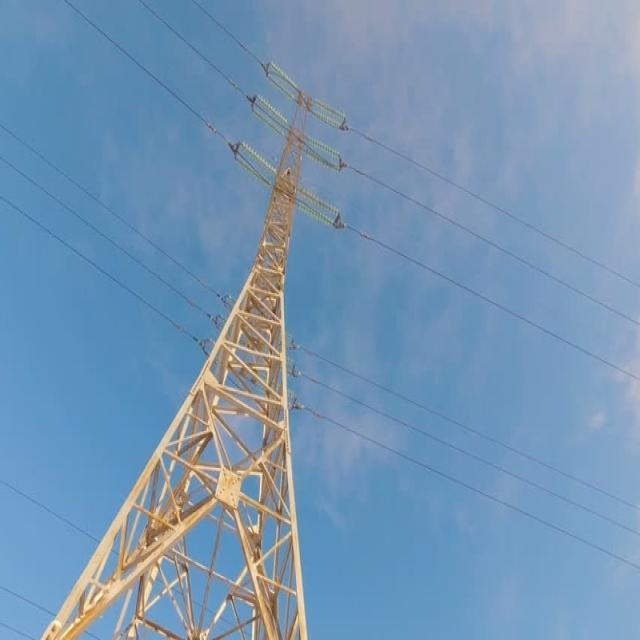non-critical vegetation: (35, 22, 403, 636)
